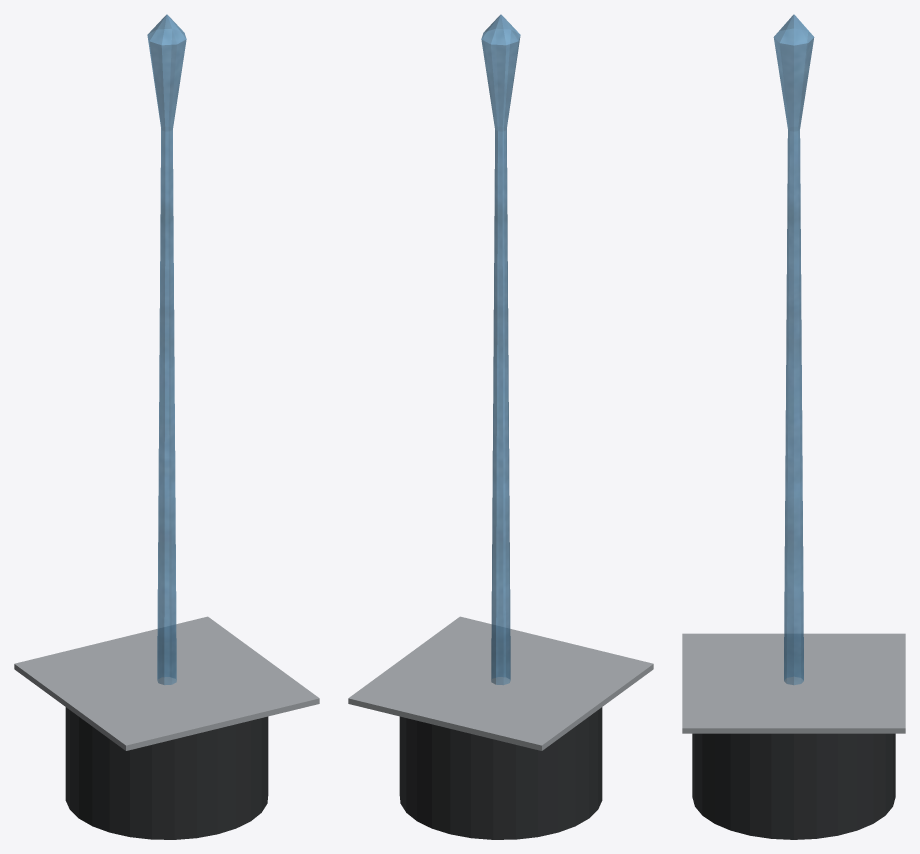
3 renders of one model, left to right at view 1: azimuth 30°, elevation 25°; view 2: azimuth 150°, elevation 25°; view 3: azimuth 270°, elevation 25°, orthographic.
Visible parts, largest first — view 1: baseOffset=0;diameter=0.2;height=0.02;material=steel_galv;po (×3); view 2: baseOffset=0;diameter=0.2;height=0.02;material=steel_galv;po (×3); view 3: baseOffset=0;diameter=0.2;height=0.02;material=steel_galv;po (×3).
Part boxes in pixels (x1,y1,x2,y2): baseOffset=0;diameter=0.2;height=0.02;material=steel_galv;po (×3): (14,14,319,839); baseOffset=0;diameter=0.2;height=0.02;material=steel_galv;po (×3): (348,14,653,839); baseOffset=0;diameter=0.2;height=0.02;material=steel_galv;po (×3): (682,14,905,839).
Size of the model in its own units: 0.44 by 0.44 by 1.7.
Materials: 3 (1 with a texture image).
